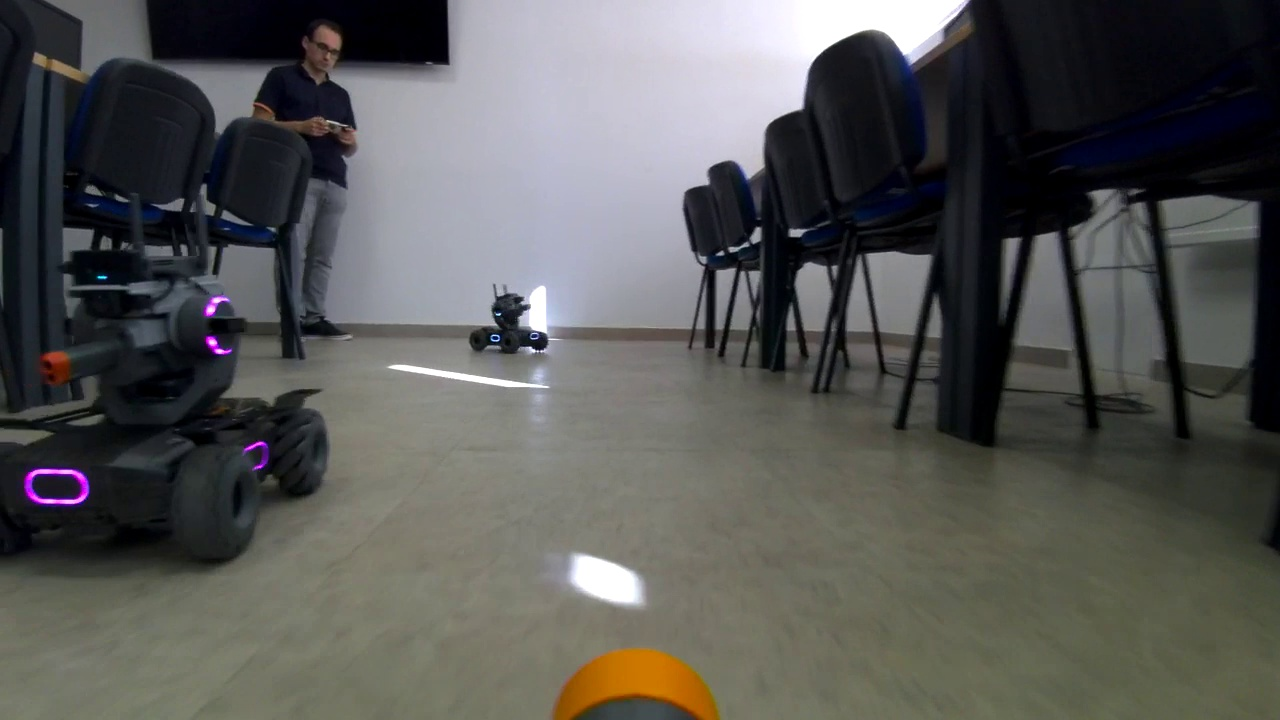robot: (10, 247, 332, 566), (468, 293, 555, 356)
